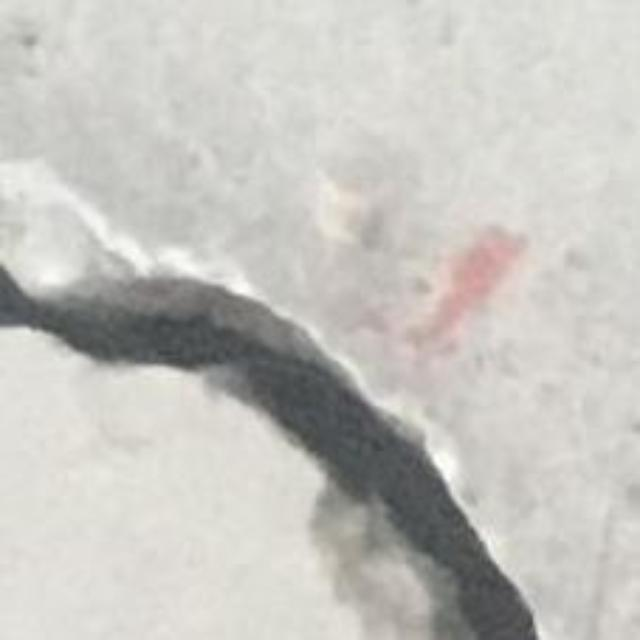crack: (0, 266, 538, 639)
